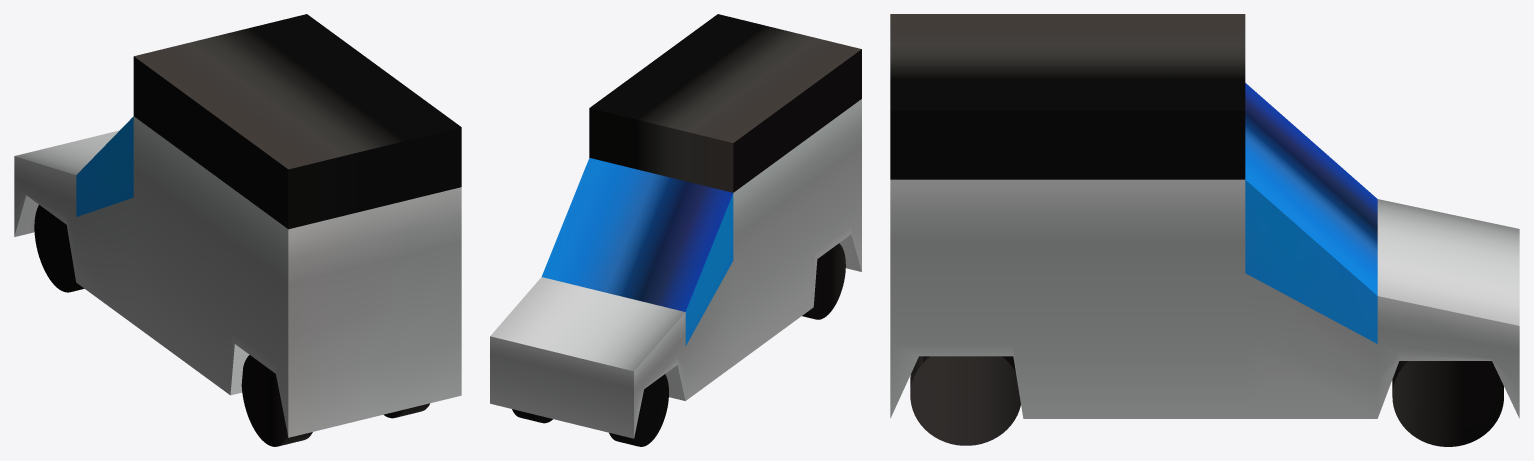
The model's file is van.fbx.
3 views of the same model, side by side, from view 1: azimuth 30°, elevation 25°; view 2: azimuth 150°, elevation 25°; view 3: azimuth 270°, elevation 25° (orthographic). The views are drawn at different scales.
Visible parts, largest first — view 1: Cube; view 2: Cube; view 3: Cube.
Part boxes in pixels (x1=…): Cube: x1=14, y1=14, x2=461, y2=446; Cube: x1=490, y1=14, x2=861, y2=446; Cube: x1=890, y1=14, x2=1519, y2=446.
Bounding box in the file's own units: 200 × 332 × 548.
4 materials, 4 textured.
